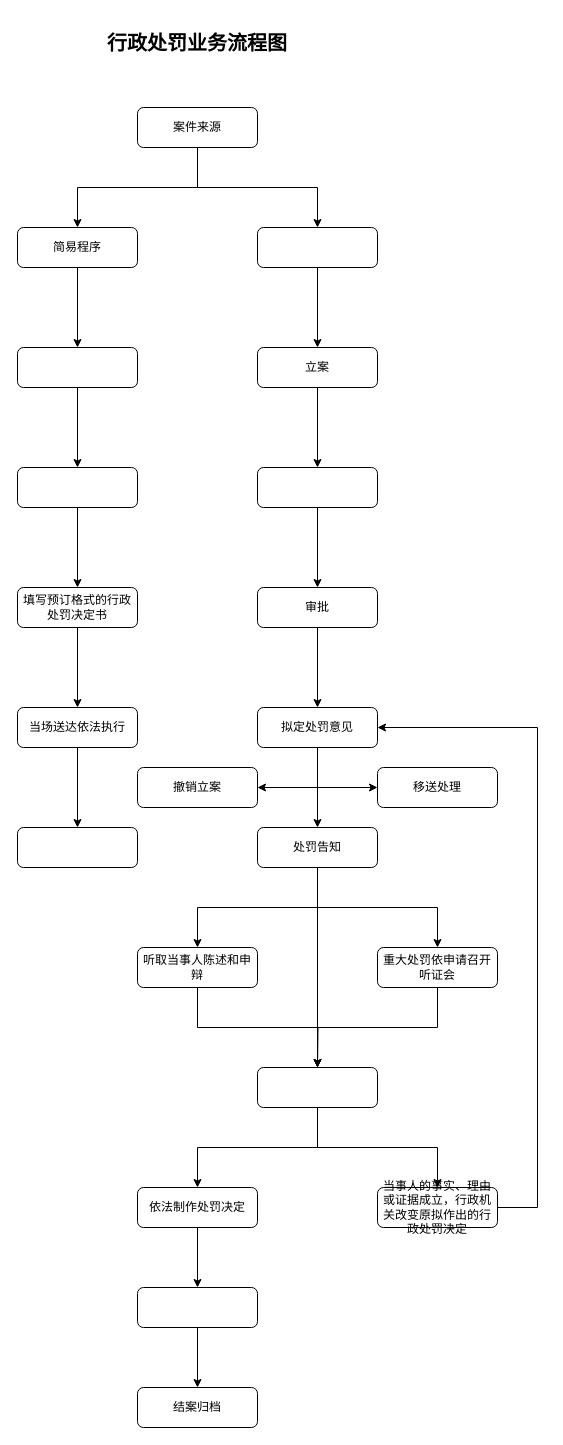
The diagram is 563 pixels wide and 1445 high, and some of its shapes have lost their labels. The shapes that lost their labels are listed below. From the top down, each one's centre as x and y in pixels, then its label:
At point (317, 247): "一般程序".
At point (77, 367): "执法人员 出示执法证件".
At point (77, 487): "告知拟处罚的事实、理由、依据和陈述申辩的权利".
At point (317, 487): "调查取证".
At point (77, 847): "备案归档".
At point (317, 1087): "处罚决定审批".
At point (197, 1307): "送达执行".
